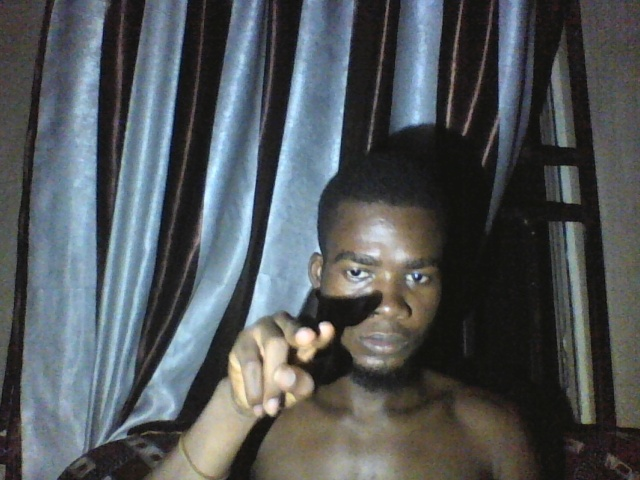no: (225, 308, 335, 427)
